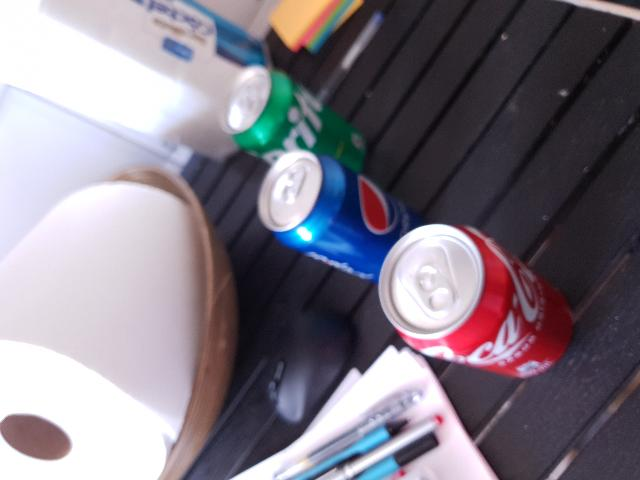coke: (380, 223, 574, 379)
pepsi: (258, 152, 407, 284)
sprite: (218, 67, 372, 175)
